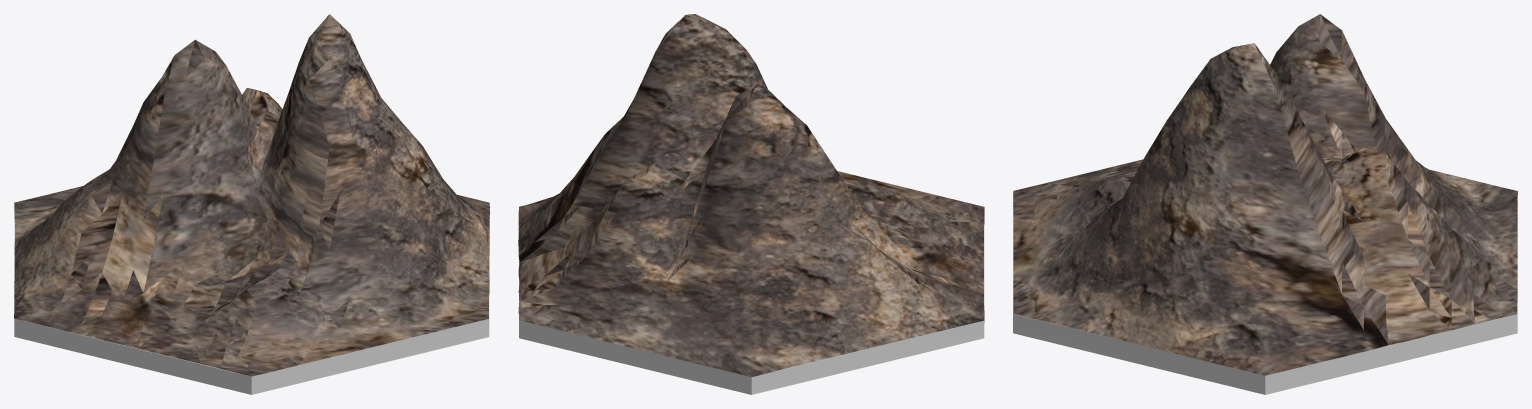
Rendered from hills.fbx.
3 views of the same model, side by side, from view 1: azimuth 30°, elevation 25°; view 2: azimuth 150°, elevation 25°; view 3: azimuth 270°, elevation 25° (orthographic). The views are drawn at different scales.
Parts seen in each view (by area): view 1: Hill, Hex (hollow); view 2: Hill, Hex (hollow); view 3: Hill, Hex (hollow).
Part boxes in pixels (x1,y1,x2,y2): Hill: (14, 14, 489, 376); Hex (hollow): (14, 211, 489, 394); Hill: (518, 14, 984, 377); Hex (hollow): (519, 175, 984, 394); Hill: (1013, 14, 1517, 375); Hex (hollow): (1013, 159, 1517, 394).
Bounding box in the file's own units: 4379 × 2209 × 3795.
